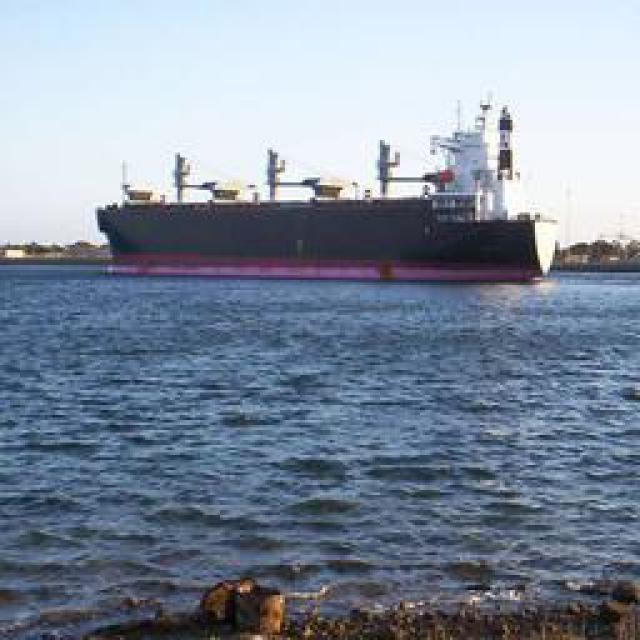Ship: (101, 162, 556, 280)
